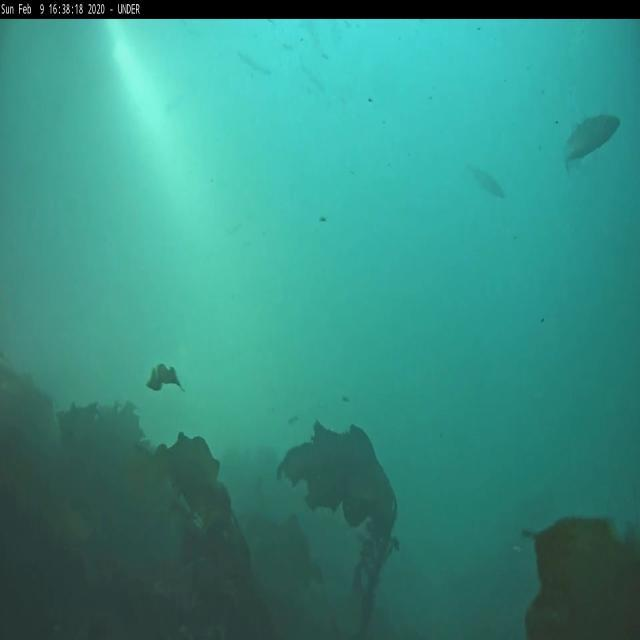fish: (564, 113, 620, 174), (466, 162, 506, 201)
